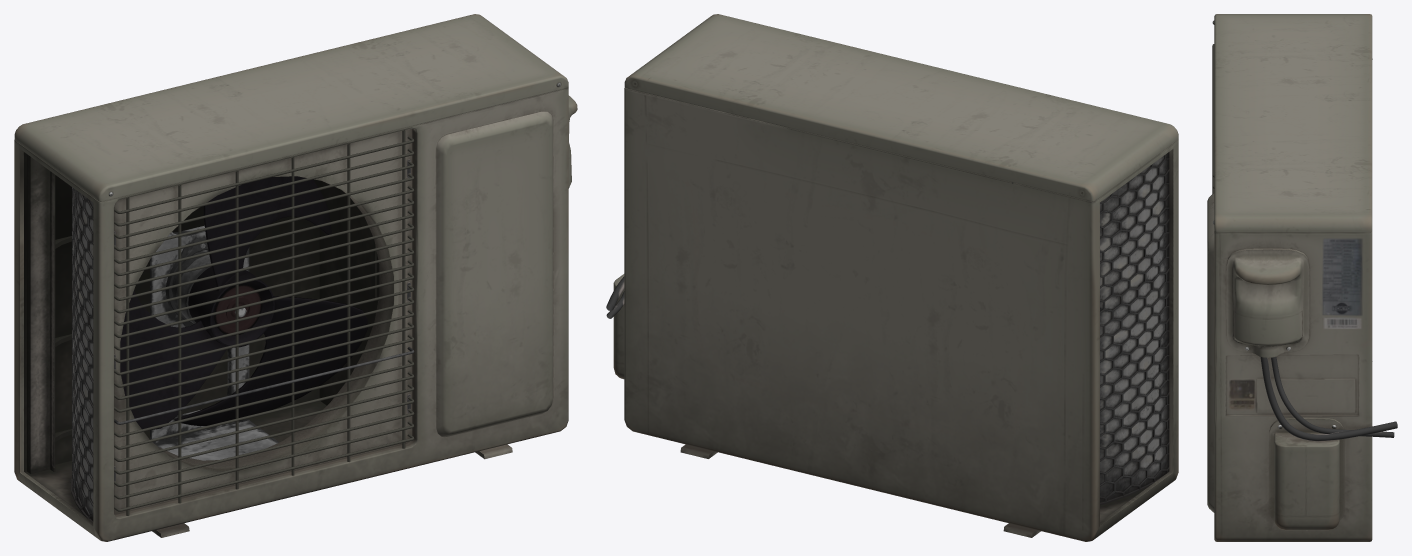
Rendered from obj_aire1_036991.glb.
The picture shows the model from 3 angles, left to right: view 1: azimuth 30°, elevation 25°; view 2: azimuth 150°, elevation 25°; view 3: azimuth 270°, elevation 25°; orthographic projection. The views are drawn at different scales.
Visible parts, largest first — view 1: obj_aire1_036991; view 2: obj_aire1_036991; view 3: obj_aire1_036991.
Part boxes in pixels (left/top/right/bottom): obj_aire1_036991: left=14, top=14, right=577, bottom=541; obj_aire1_036991: left=606, top=14, right=1178, bottom=541; obj_aire1_036991: left=1207, top=14, right=1397, bottom=541.
Size of the model in its own units: 0.8673 by 0.6 by 0.3111.
Materials: 1 (1 with a texture image).
